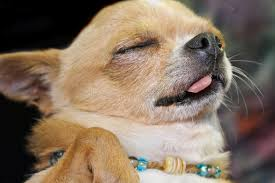chihuahua: (1, 1, 234, 183)
